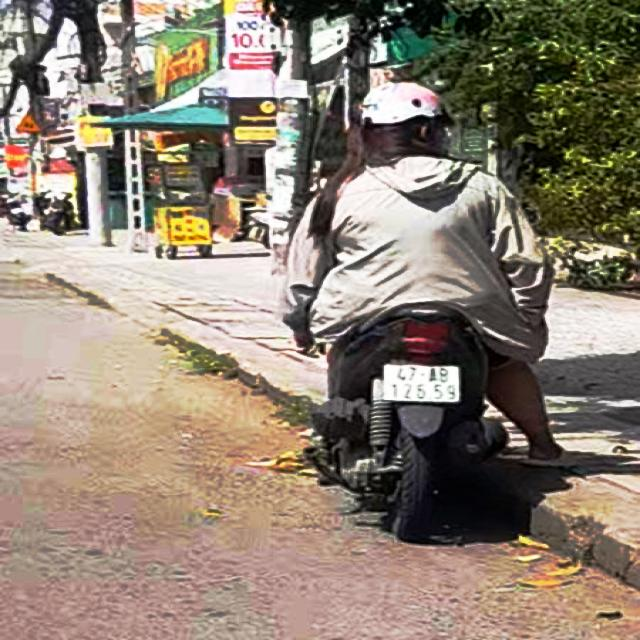license_plate: (385, 362, 464, 405)
